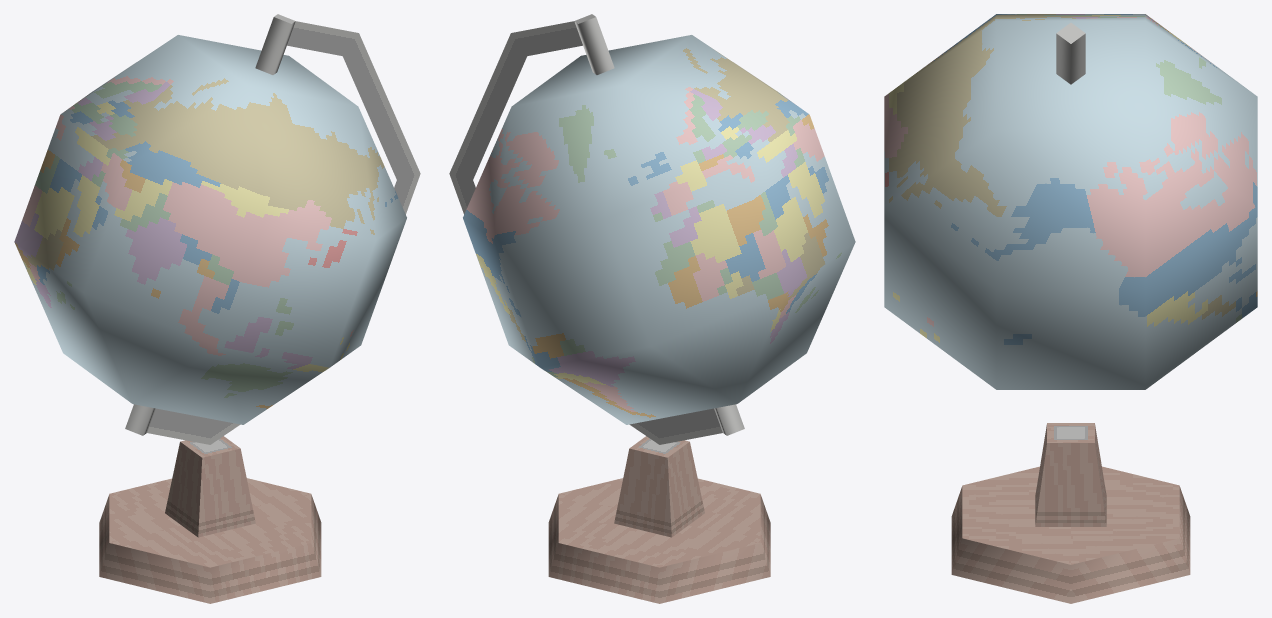
The model's file is 014f_Globe.glb.
3 renders of one model, left to right at view 1: azimuth 30°, elevation 25°; view 2: azimuth 150°, elevation 25°; view 3: azimuth 270°, elevation 25°, orthographic. The views are drawn at different scales.
Visible parts, largest first — view 1: part_1, part_0; view 2: part_1, part_0; view 3: part_1, part_0.
Part boxes in pixels (x1=…): part_1: x1=14, y1=35, x2=406, y2=424; part_0: x1=99, y1=14, x2=420, y2=603; part_1: x1=463, y1=35, x2=855, y2=424; part_0: x1=449, y1=14, x2=770, y2=603; part_1: x1=884, y1=14, x2=1257, y2=389; part_0: x1=951, y1=22, x2=1190, y2=603.
Bounding box in the file's own units: 0.464 × 0.6172 × 0.375.
Materials: 2 (2 with a texture image).
